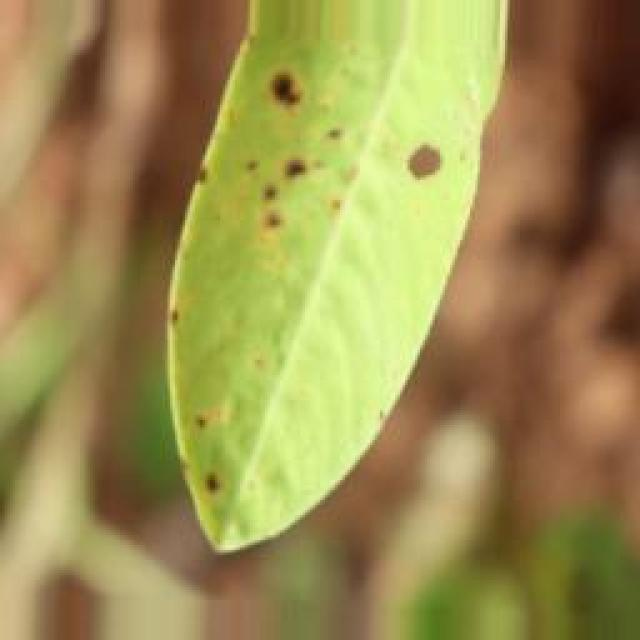Yellowish: (163, 55, 470, 244), (144, 288, 241, 509)
